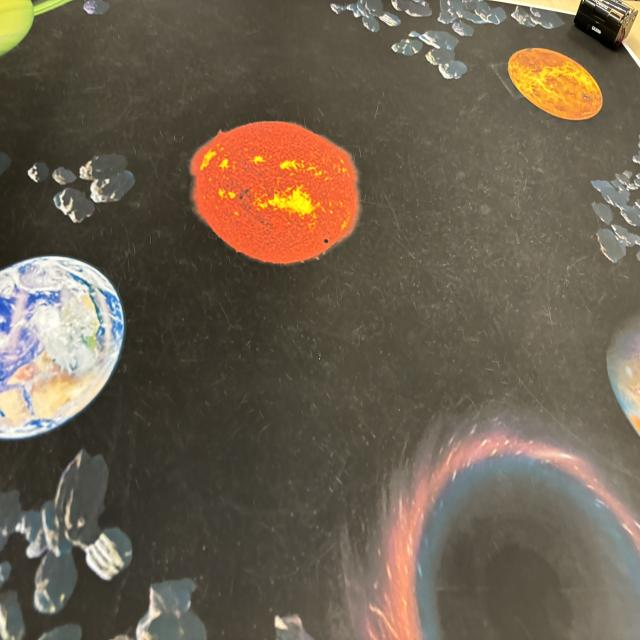Asteroids: (0, 447, 230, 640), (332, 0, 560, 65), (5, 148, 137, 228), (599, 125, 640, 263)
Black Hole: (388, 429, 640, 640)
Earth: (1, 252, 125, 436)
Saturn: (0, 0, 77, 59)
Sun: (190, 115, 364, 267)
Venus: (511, 44, 603, 124)
